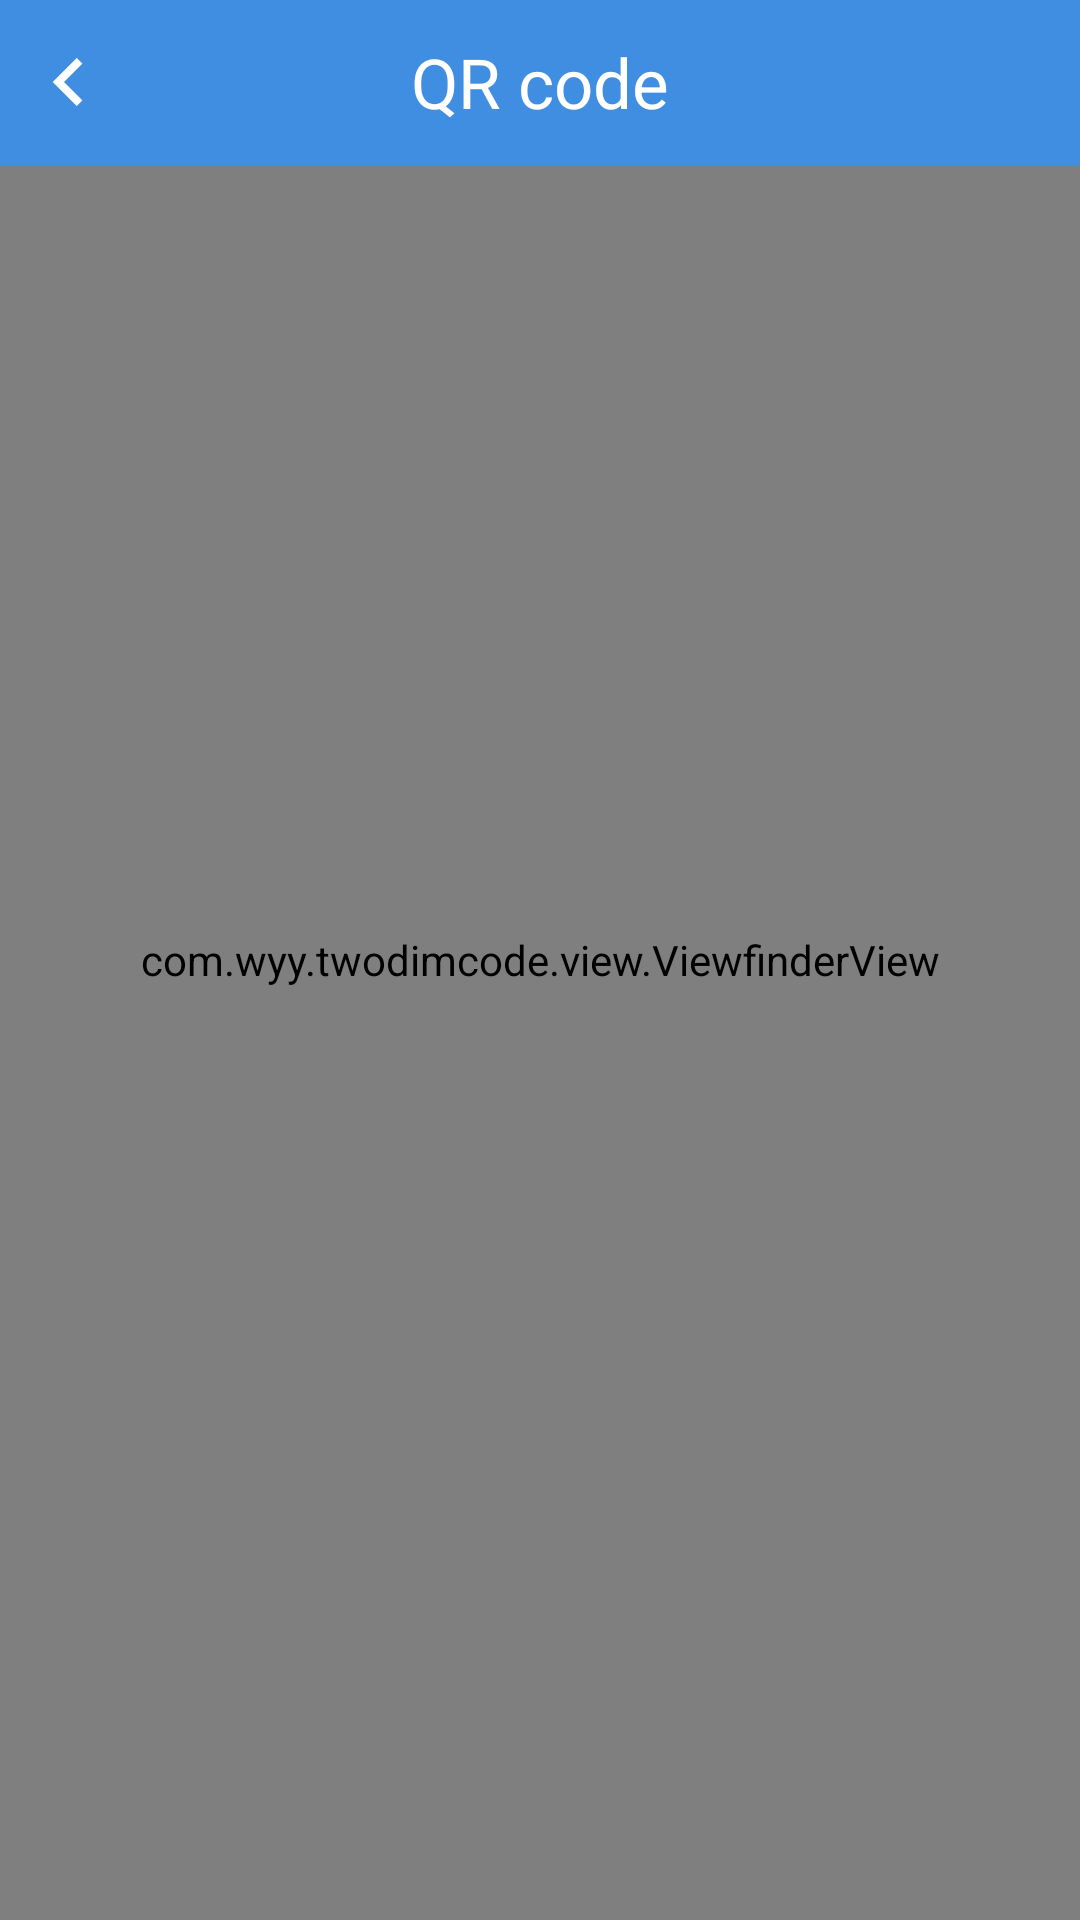

Screen size 1080 × 1920. Icon name, then its box in pixels as bbox=(x1, y1, x2, y2):
back: bbox=(53, 58, 83, 106)
